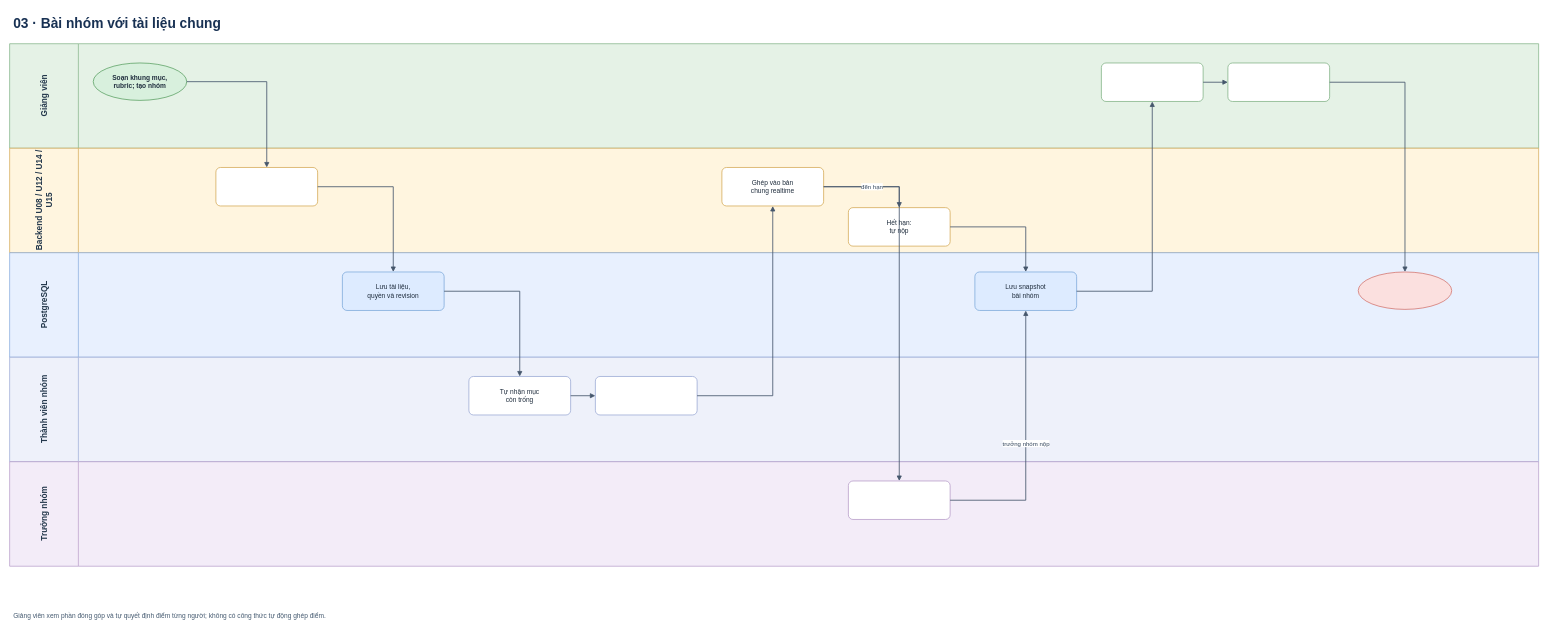
This 1549x635 diagram has some shape labels left out. Each missing label, with the centre of its shape:
Chốt điểm cuối từng người: (1278,82)
Làm trên trang riêng; bấm Xong: (646,395)
Lưu điểm và phản hồi: (1405,290)
Phát hành bài; tạo tài liệu chung: (266,186)
Xem bản chung và nộp: (899,500)
Xem đóng góp; chấm thủ công: (1152,82)
